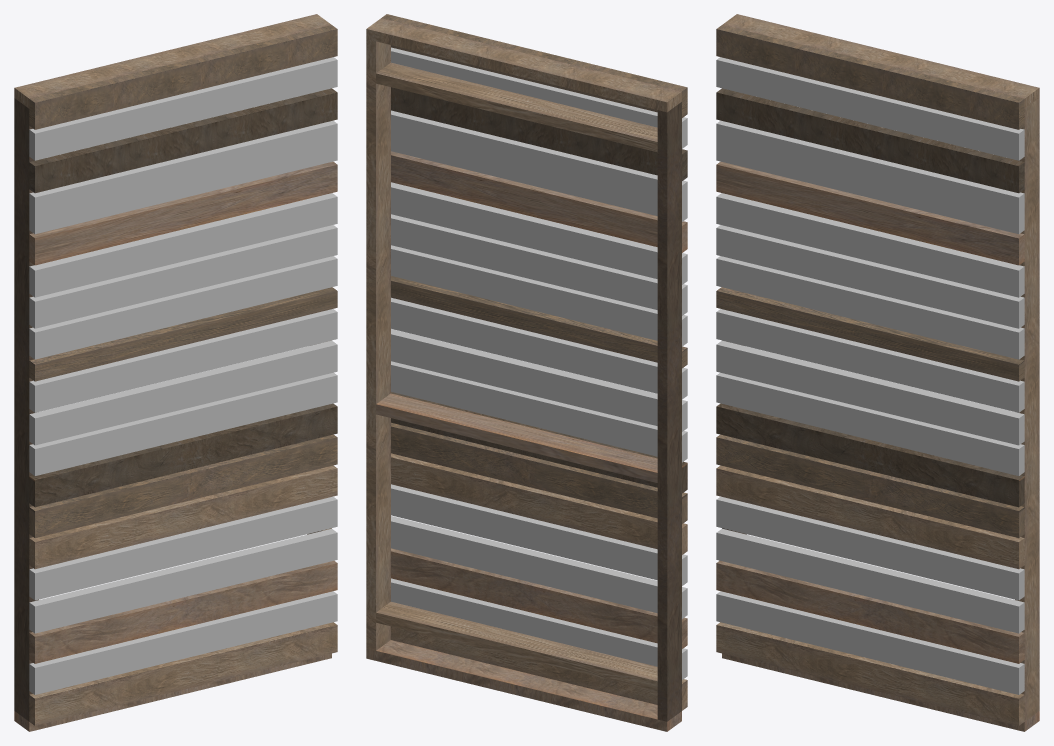
Rendered from HalfWallPeiceA.fbx.
The picture shows the model from 3 angles, left to right: view 1: azimuth 30°, elevation 25°; view 2: azimuth 150°, elevation 25°; view 3: azimuth 330°, elevation 25°; orthographic projection.
Parts seen in each view (by area): view 1: HalfWallPeiceA; view 2: HalfWallPeiceA; view 3: HalfWallPeiceA.
Part boxes in pixels (x1=…): HalfWallPeiceA: x1=14, y1=14, x2=337, y2=731; HalfWallPeiceA: x1=366, y1=14, x2=687, y2=731; HalfWallPeiceA: x1=716, y1=14, x2=1039, y2=731.
Size of the model in its own units: 187 by 374 by 22.
